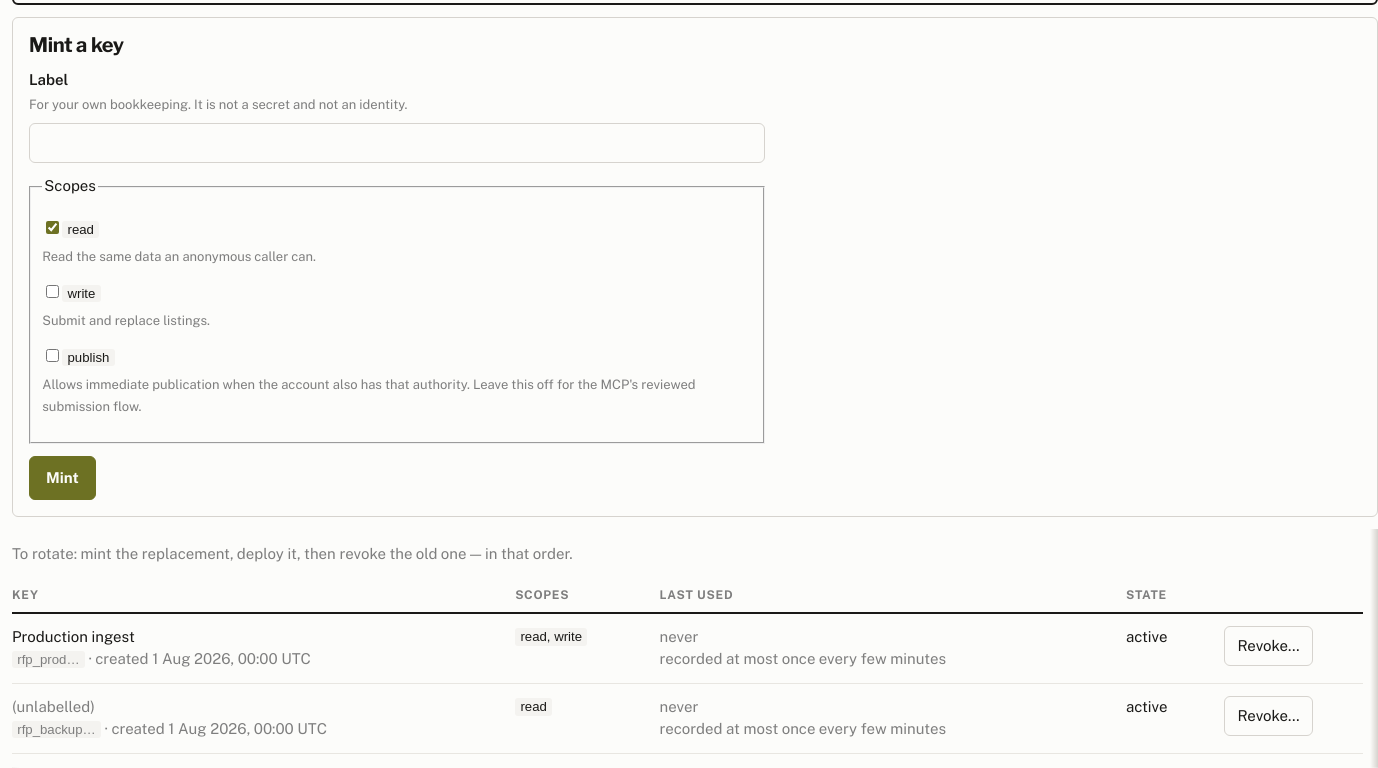
Test: revoking a key › shows and disables the busy confirmation while revocation is in flight
(page scrolled)
Click the button "Revoke…" in the row of "Production ingest": {"x": 1268, "y": 646} [1224,626,1313,666]
(page scrolled)
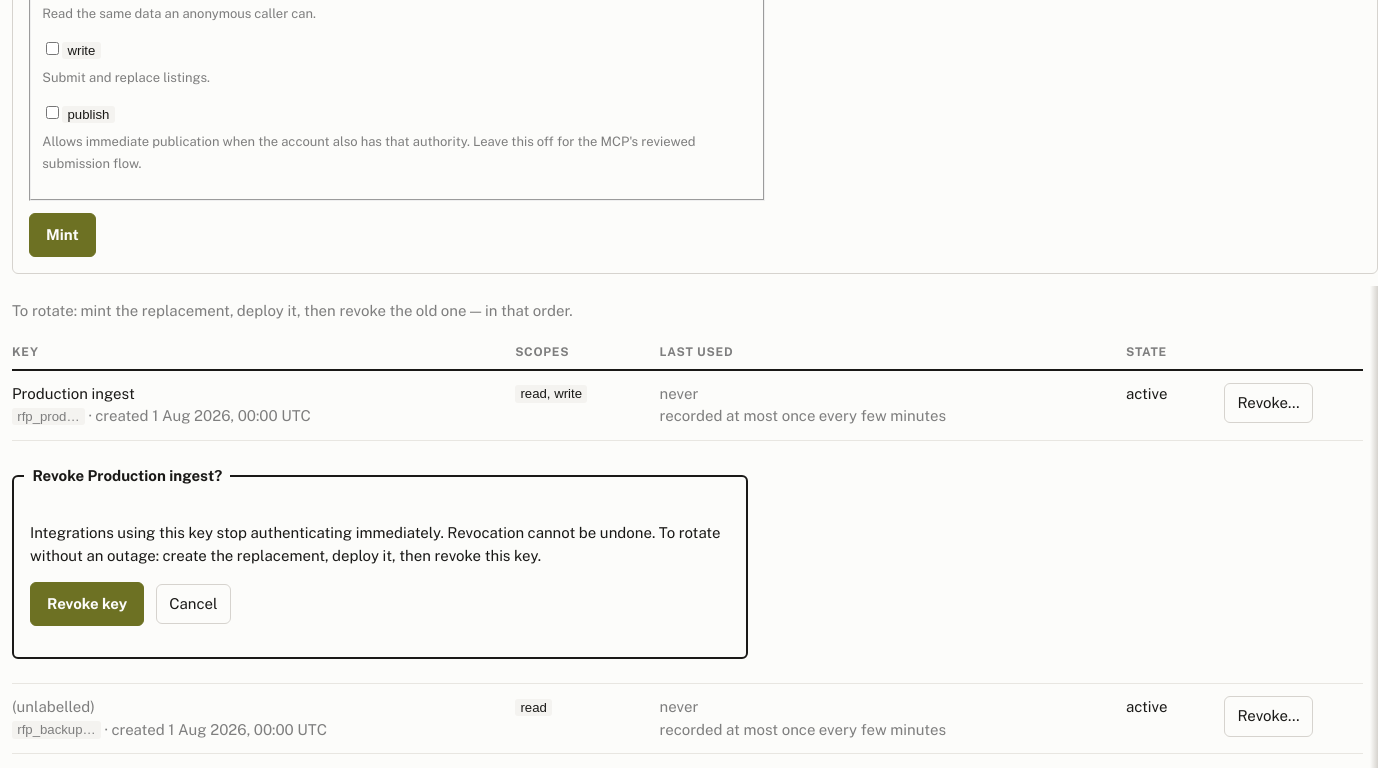
Click the button "Revoke key": {"x": 87, "y": 604} [30,582,144,626]
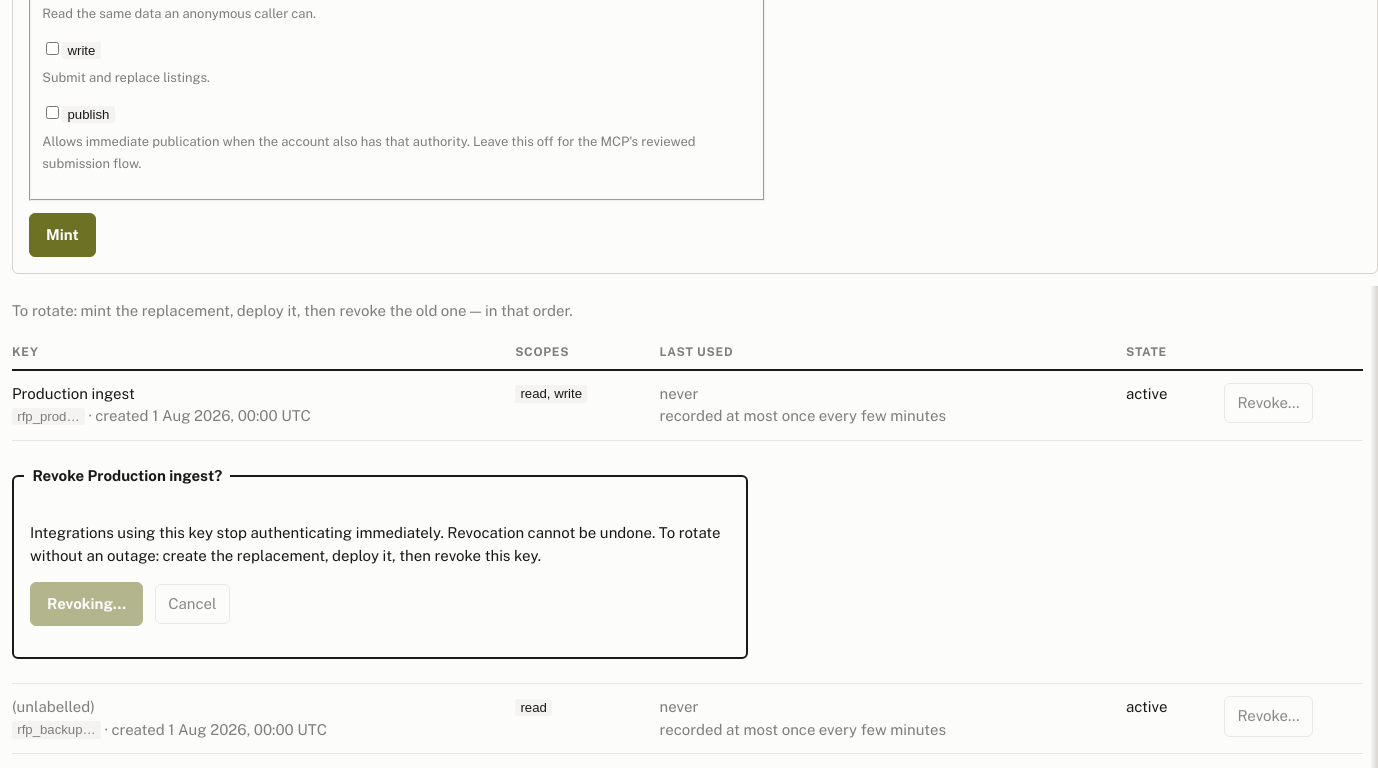
Result: the button "Revoking…" is disabled at [30,582,143,626]
